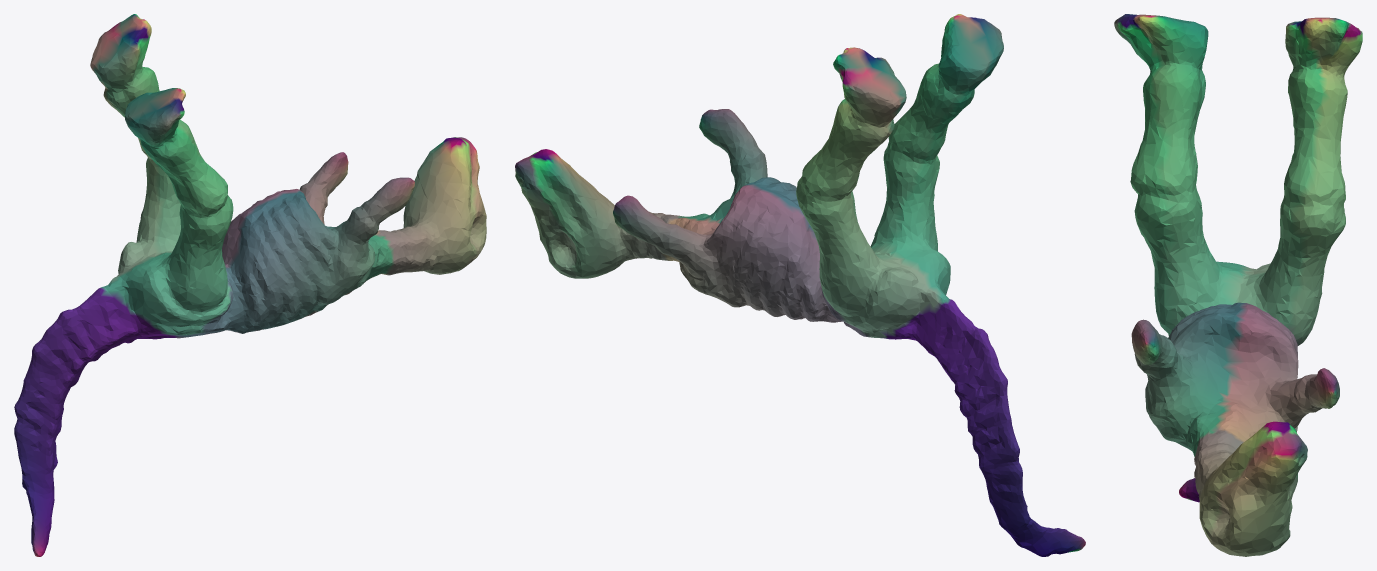
File: dino_skel-6.off.obj
The picture shows the model from 3 angles, left to right: view 1: azimuth 30°, elevation 25°; view 2: azimuth 150°, elevation 25°; view 3: azimuth 270°, elevation 25°; orthographic projection. The views are drawn at different scales.
Size of the model in its own units: 1.3 by 1.19 by 0.4675.
